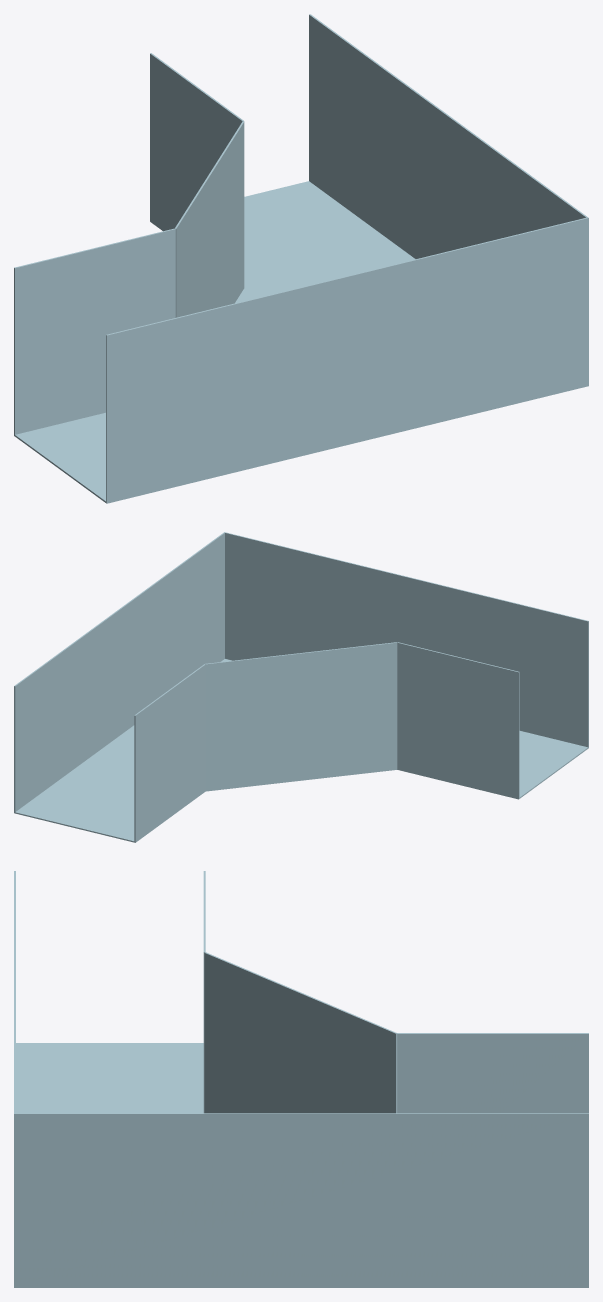
The picture shows the model from 3 angles, top to bottom: view 1: azimuth 30°, elevation 25°; view 2: azimuth 150°, elevation 25°; view 3: azimuth 270°, elevation 25°; orthographic projection. The views are drawn at different scales.
Visible parts, largest first — view 1: L2-C20; view 2: L2-C20; view 3: L2-C20.
Boxes of the visible parts, left/top/right/bottom form: L2-C20: left=14, top=14, right=588, bottom=503; L2-C20: left=14, top=532, right=588, bottom=842; L2-C20: left=14, top=871, right=588, bottom=1287.
Bounding box in the file's own units: 0.6 × 0.2 × 0.6.
